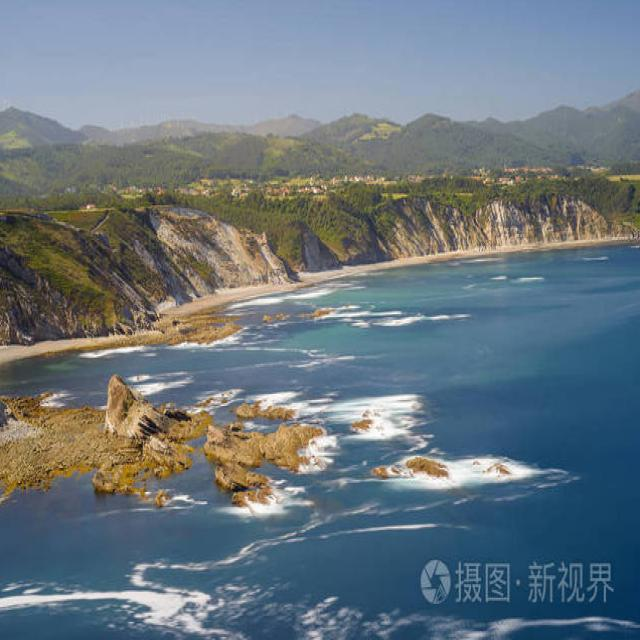reef: (22, 357, 344, 538)
